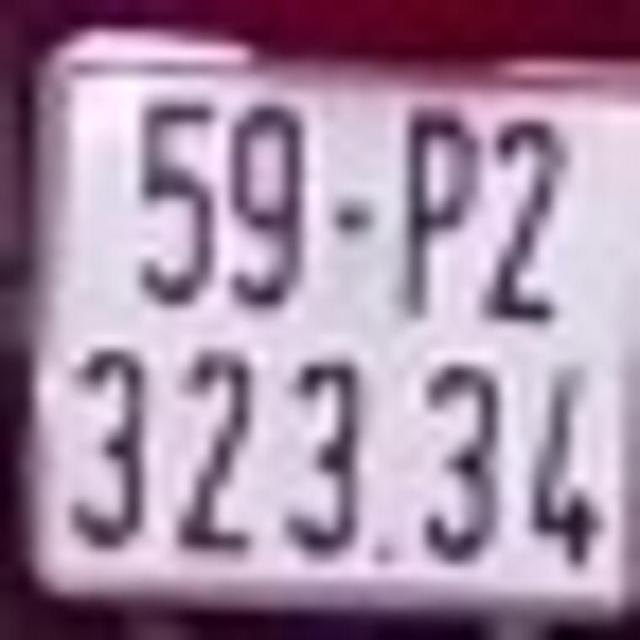2: (478, 102, 568, 328), (169, 351, 266, 548)
3: (412, 353, 503, 577), (62, 335, 149, 548), (283, 358, 362, 548)
4: (526, 349, 609, 570)
5: (137, 97, 215, 306)
9: (220, 88, 304, 307)
P: (401, 105, 474, 322)
